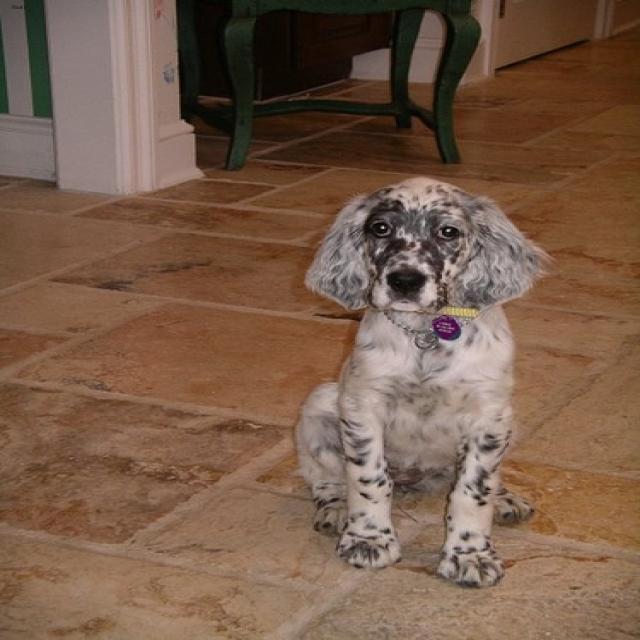dog-english_setter: (285, 164, 570, 594)
